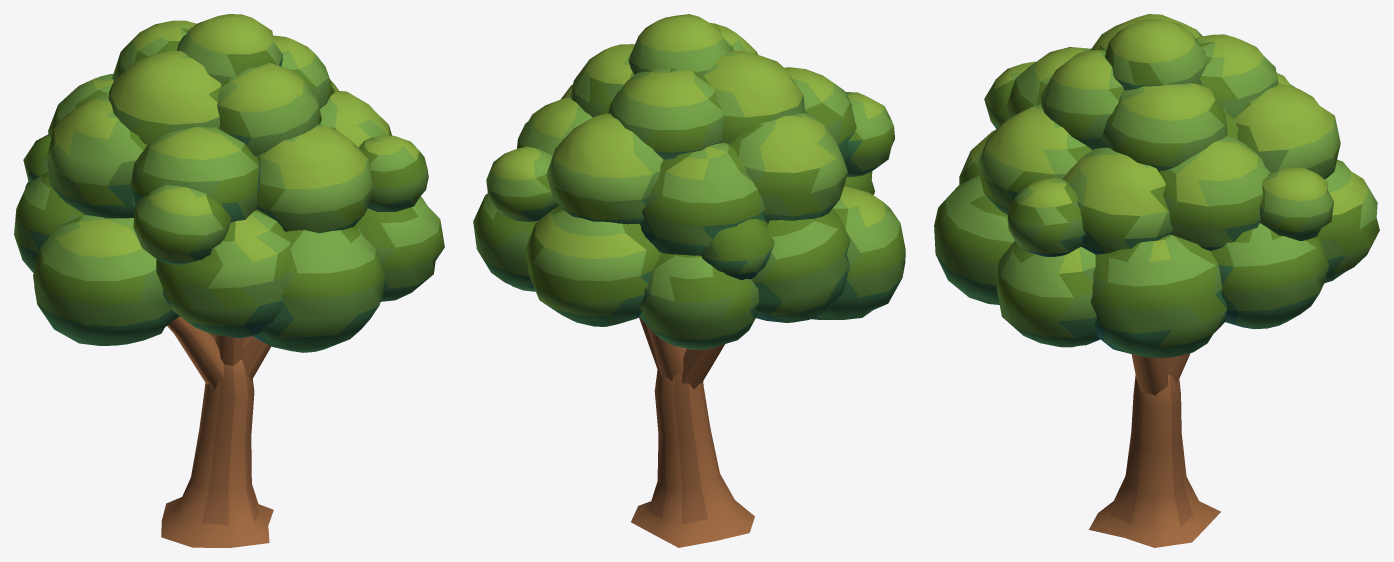
The model's file is tree_a.glb.
The picture shows the model from 3 angles, left to right: view 1: azimuth 30°, elevation 25°; view 2: azimuth 150°, elevation 25°; view 3: azimuth 270°, elevation 25°; orthographic projection.
Visible parts, largest first — view 1: Canopy, Trunk; view 2: Canopy, Trunk; view 3: Canopy, Trunk.
Part boxes in pixels (x1=…): Canopy: x1=14, y1=14, x2=444, y2=352; Trunk: x1=161, y1=316, x2=273, y2=547; Canopy: x1=473, y1=14, x2=905, y2=349; Trunk: x1=631, y1=317, x2=754, y2=547; Canopy: x1=934, y1=14, x2=1379, y2=357; Trunk: x1=1089, y1=353, x2=1220, y2=547.
Bounding box in the file's own units: 4.79 × 6 × 4.82.
